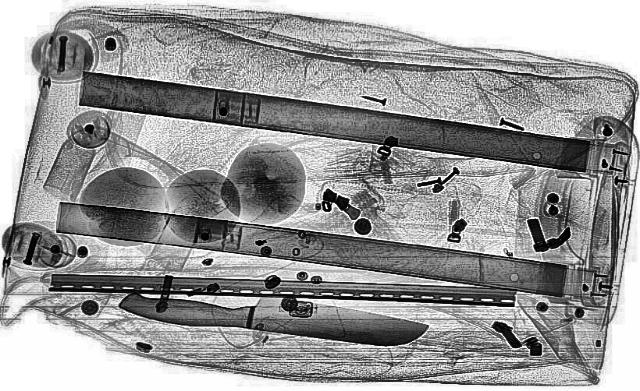Knife: (112, 284, 432, 348)
